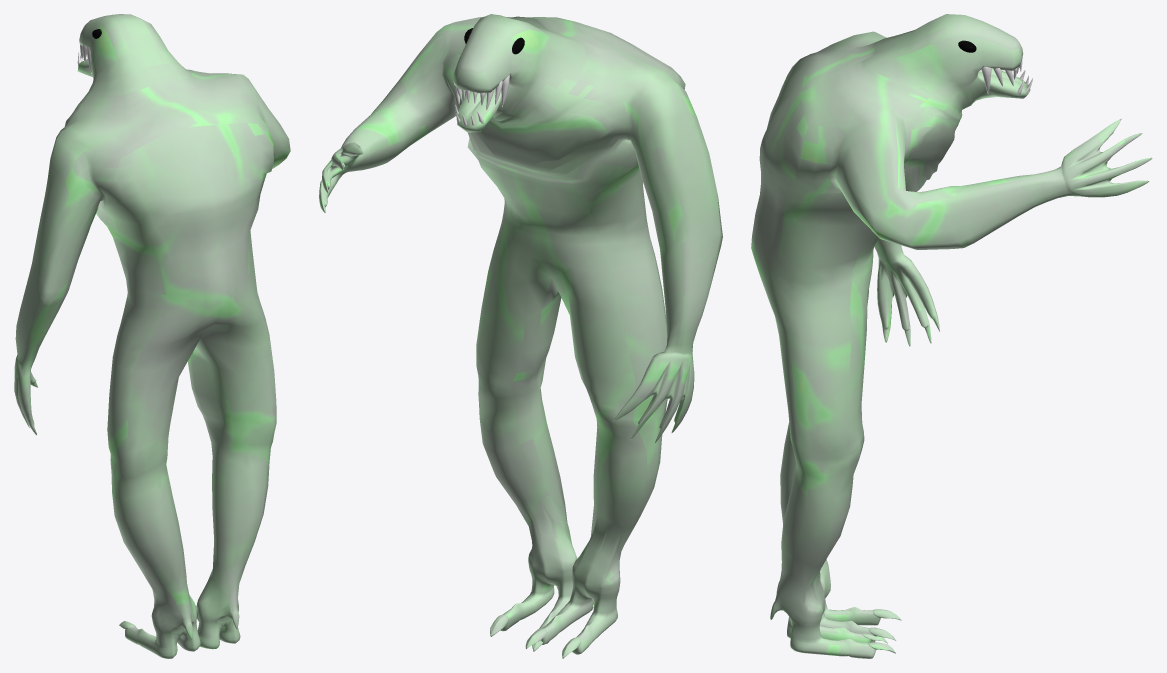
File: Berserkercorrer.0017.obj
The picture shows the model from 3 angles, left to right: view 1: azimuth 30°, elevation 25°; view 2: azimuth 150°, elevation 25°; view 3: azimuth 270°, elevation 25°; orthographic projection. The views are drawn at different scales.
Visible parts, largest first — view 1: polySurface27; view 2: polySurface27; view 3: polySurface27.
Boxes of the visible parts, x1,y1,x2,y2 form: polySurface27: (14,14,290,658); polySurface27: (319,14,722,658); polySurface27: (751,14,1152,658).
Size of the model in its own units: 11.68 by 23.89 by 13.91.
1 material, 1 textured.
